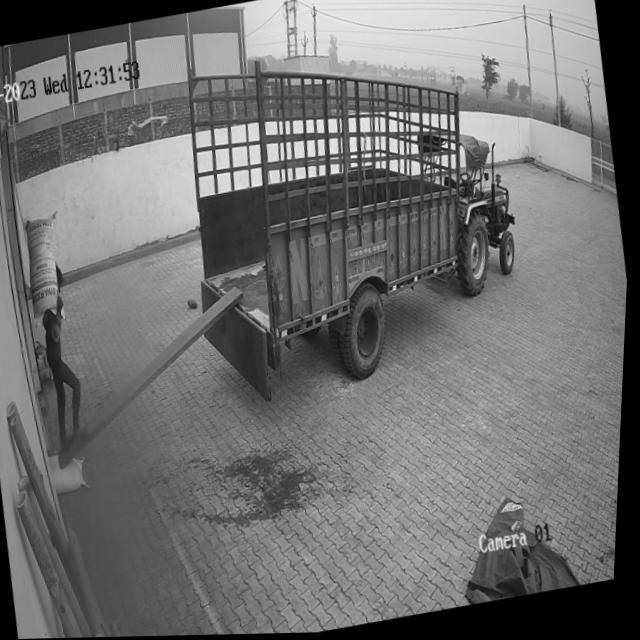sack: (22, 213, 75, 325), (50, 449, 93, 496)
